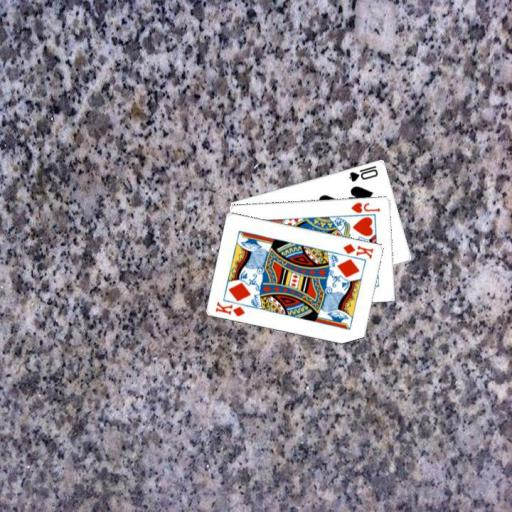10S: (346, 162, 380, 183)
JH: (349, 199, 381, 214)
KD: (340, 241, 375, 261), (212, 299, 247, 318)
